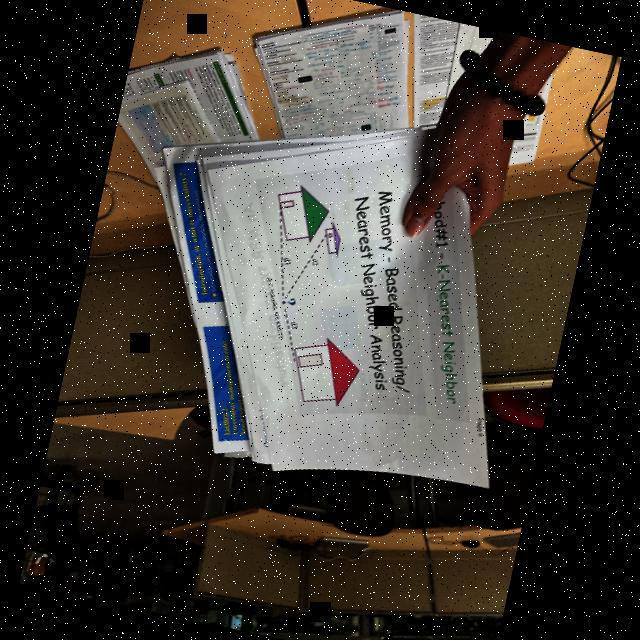reuseable_paper: (97, 72, 559, 520)
